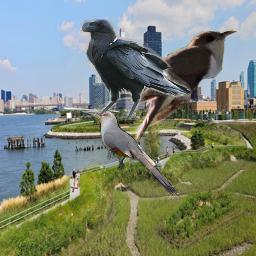Crow: (79, 19, 191, 120)
Cuckoo: (131, 28, 237, 154), (80, 109, 179, 197)
